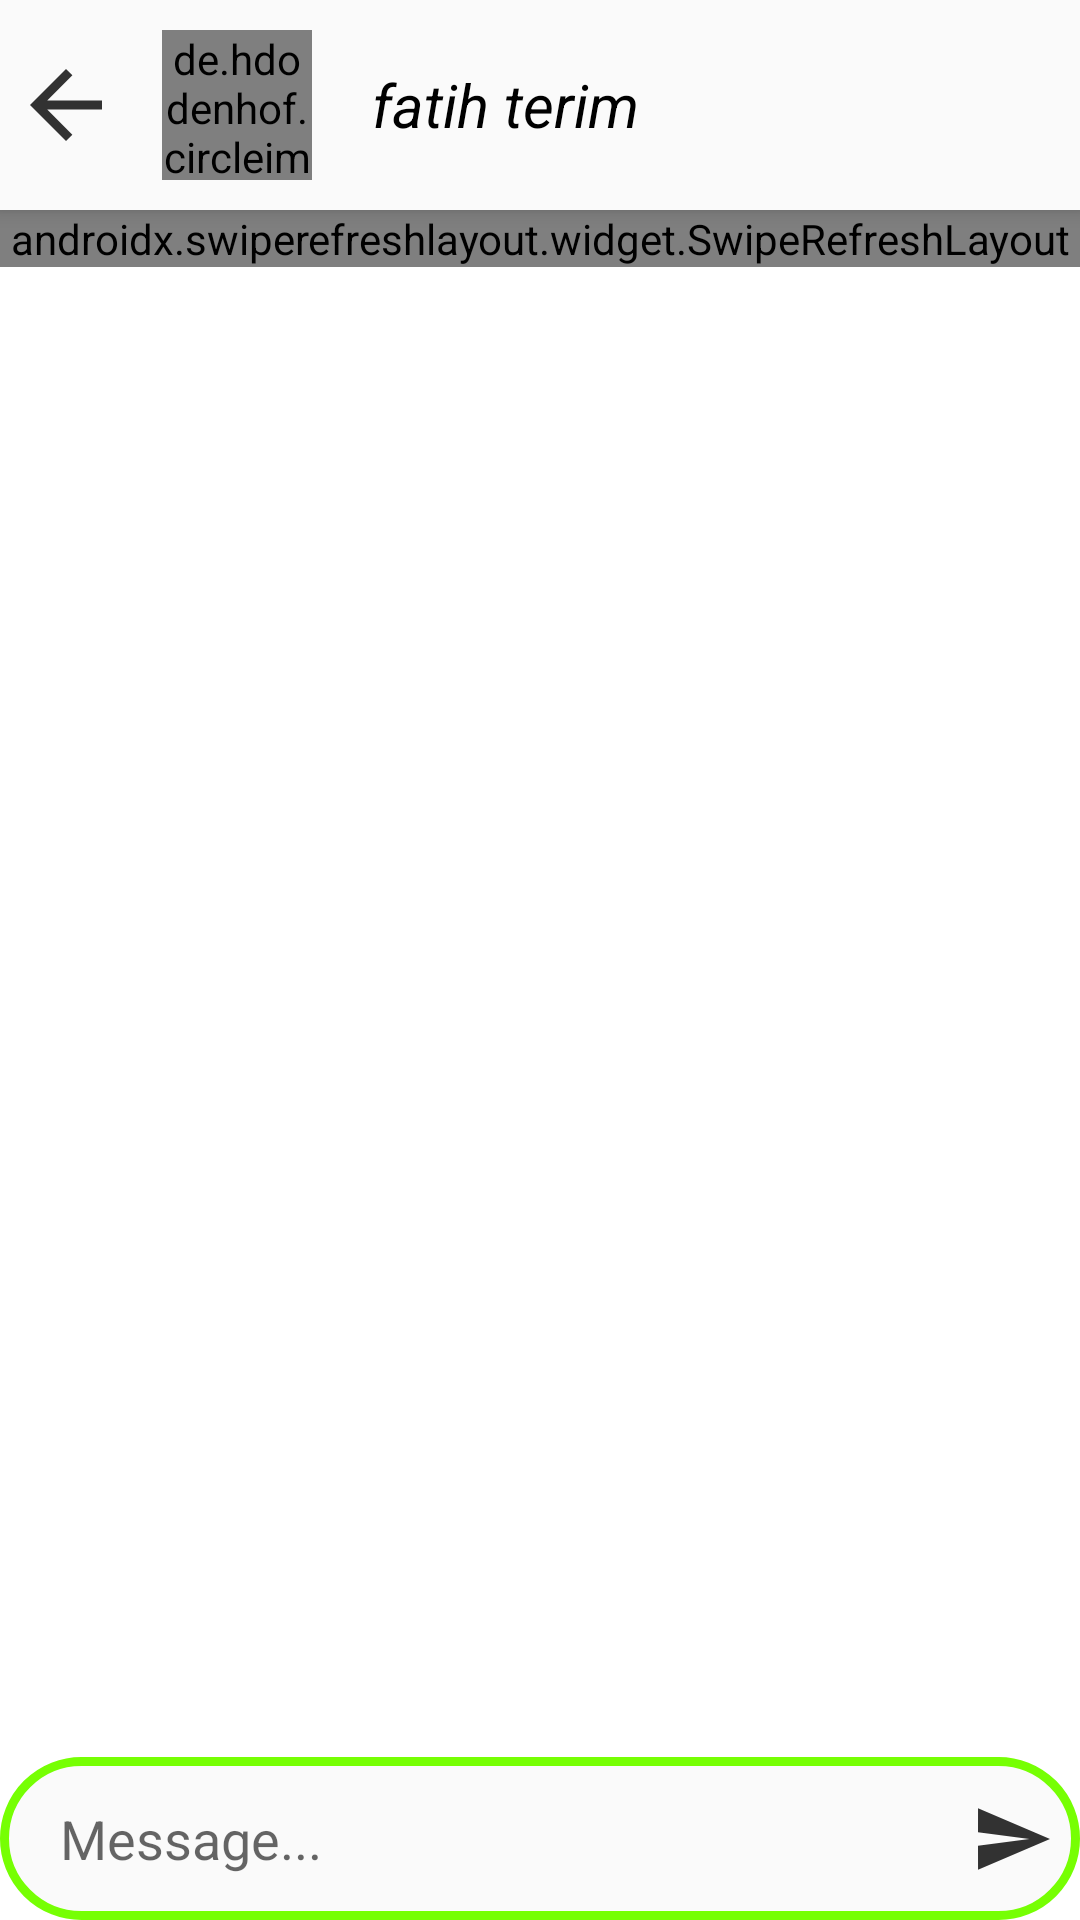

Icons on this 1080 × 1920 Android screen, each with the point to tap as [x,y]:
back: [66,105]
send: [1014,1839]
